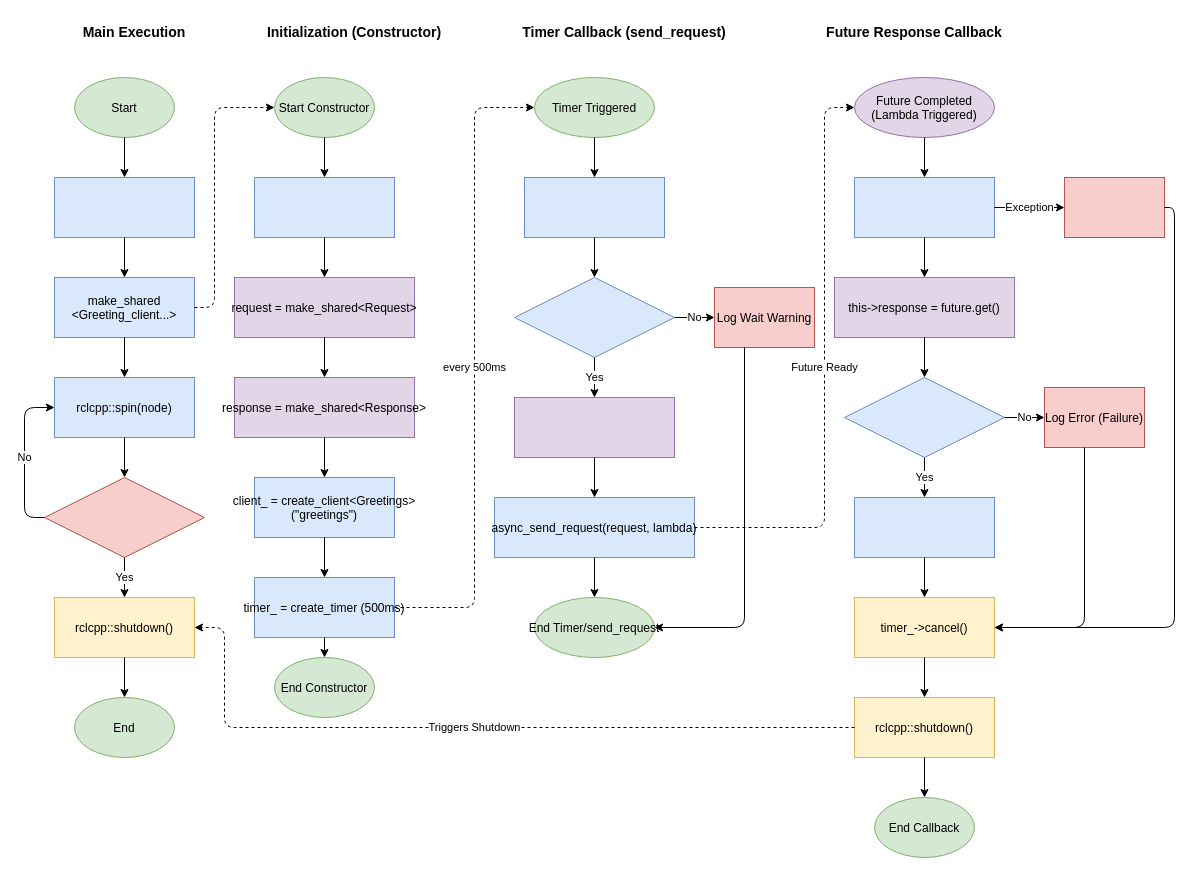
The diagram is 1200 pixels wide and 875 high, and some of its shapes have lost their labels. The centre of each missing label's shape, as x and y in pixels:
"Call send_request()" belongs at (594,207).
"Catch Block (Error)" belongs at (1114,207).
"Interrupt? (Ctrl+C)" belongs at (124,517).
"Log Info (Success)" belongs at (924,527).
"Log Node Started" belongs at (324,207).
"rclcpp::init" belongs at (124,207).
"request->greetings = value" belongs at (594,427).
"response->success?" belongs at (924,417).
"service_is_ready()?" belongs at (594,317).
"Try Block" belongs at (924,207).
